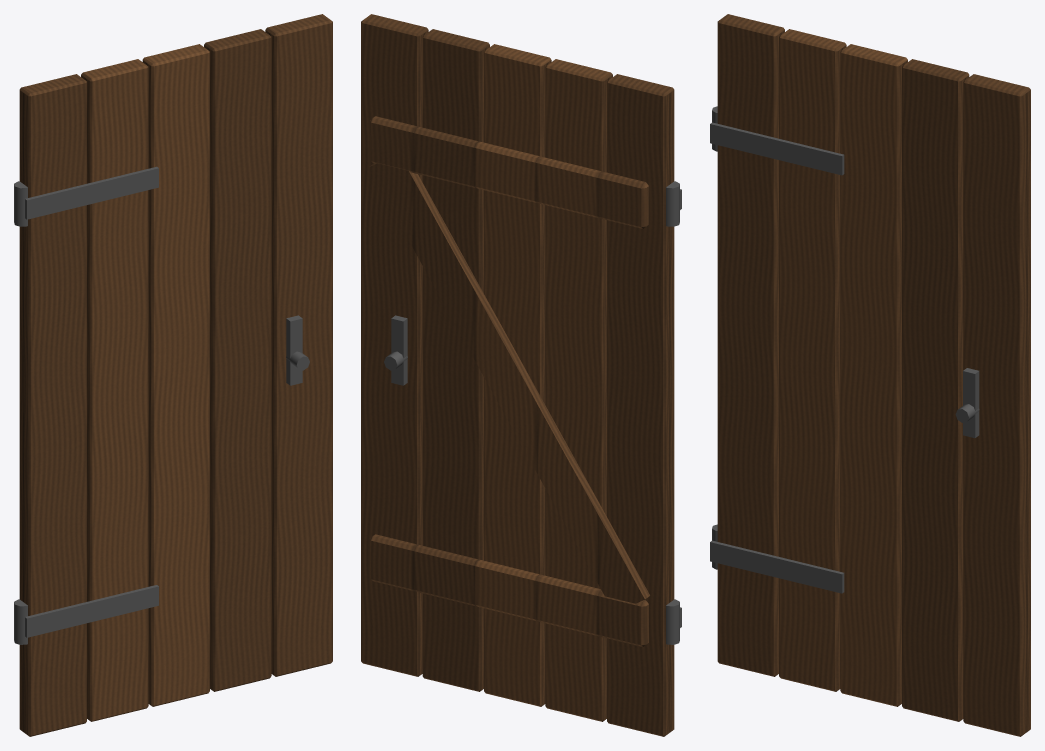
Rendered from door.glb.
3 views of the same model, side by side, from view 1: azimuth 30°, elevation 25°; view 2: azimuth 150°, elevation 25°; view 3: azimuth 330°, elevation 25° (orthographic).
Visible parts, largest first — view 1: leaf, iron; view 2: leaf, iron; view 3: leaf, iron.
Part boxes in pixels (x1,y1,x2,y2): leaf: [19, 14, 332, 736]; iron: [14, 166, 309, 644]; leaf: [361, 14, 674, 736]; iron: [384, 181, 681, 644]; leaf: [717, 14, 1030, 736]; iron: [710, 106, 979, 593].
Bounding box in the file's own units: 1.02 × 2 × 0.22.
Materials: 2 (1 with a texture image).
